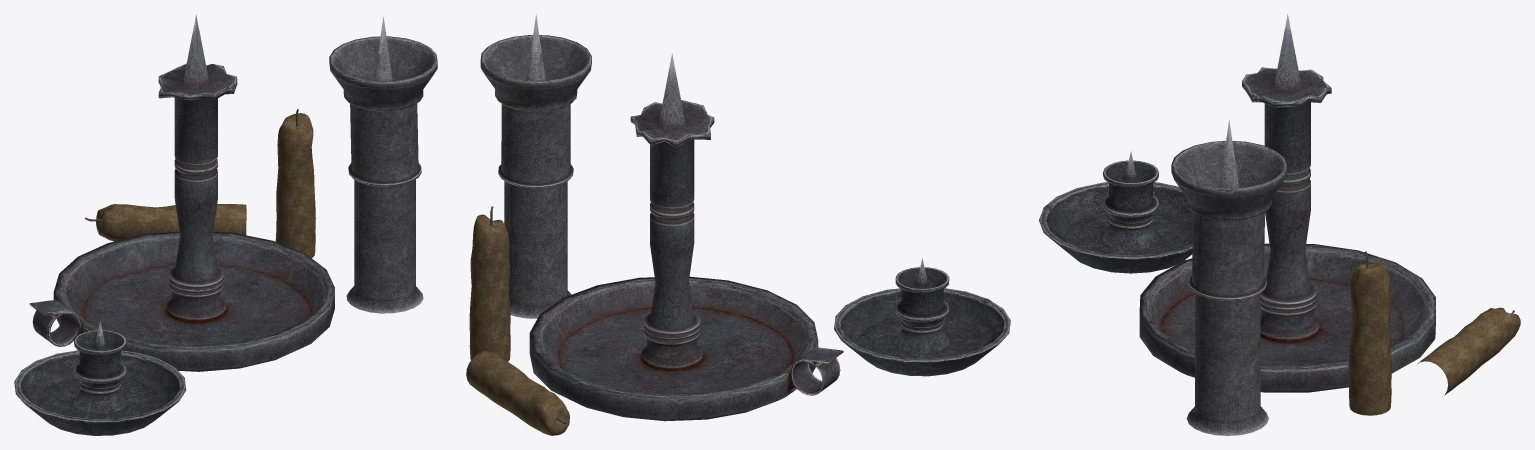
File: candelabro glb.draco.glb
3 views of the same model, side by side, from view 1: azimuth 30°, elevation 25°; view 2: azimuth 150°, elevation 25°; view 3: azimuth 270°, elevation 25° (orthographic). The views are drawn at different scales.
Visible parts, largest first — view 1: candlestick1, candlestick2, candlestick3, candle, candle001; view 2: candlestick1, candlestick2, candlestick3, candle, candle001; view 3: candlestick1, candlestick2, candlestick3, candle, candle001.
Part boxes in pixels (bbox=[...]): candlestick1: bbox=[29, 15, 334, 371]; candlestick2: bbox=[329, 16, 437, 313]; candlestick3: bbox=[14, 321, 186, 435]; candle: bbox=[275, 109, 315, 257]; candle001: bbox=[85, 204, 246, 241]; candlestick1: bbox=[529, 53, 843, 421]; candlestick2: bbox=[480, 14, 591, 318]; candlestick3: bbox=[834, 258, 1010, 376]; candle: bbox=[469, 206, 510, 361]; candle001: bbox=[466, 351, 569, 435]; candlestick1: bbox=[1139, 14, 1435, 392]; candlestick2: bbox=[1171, 120, 1286, 435]; candlestick3: bbox=[1039, 151, 1192, 273]; candle: bbox=[1348, 251, 1391, 415]; candle001: bbox=[1418, 307, 1520, 395].
Size of the model in its own units: 0.3785 by 0.2448 by 0.3289.
Materials: 4 (4 with a texture image).
